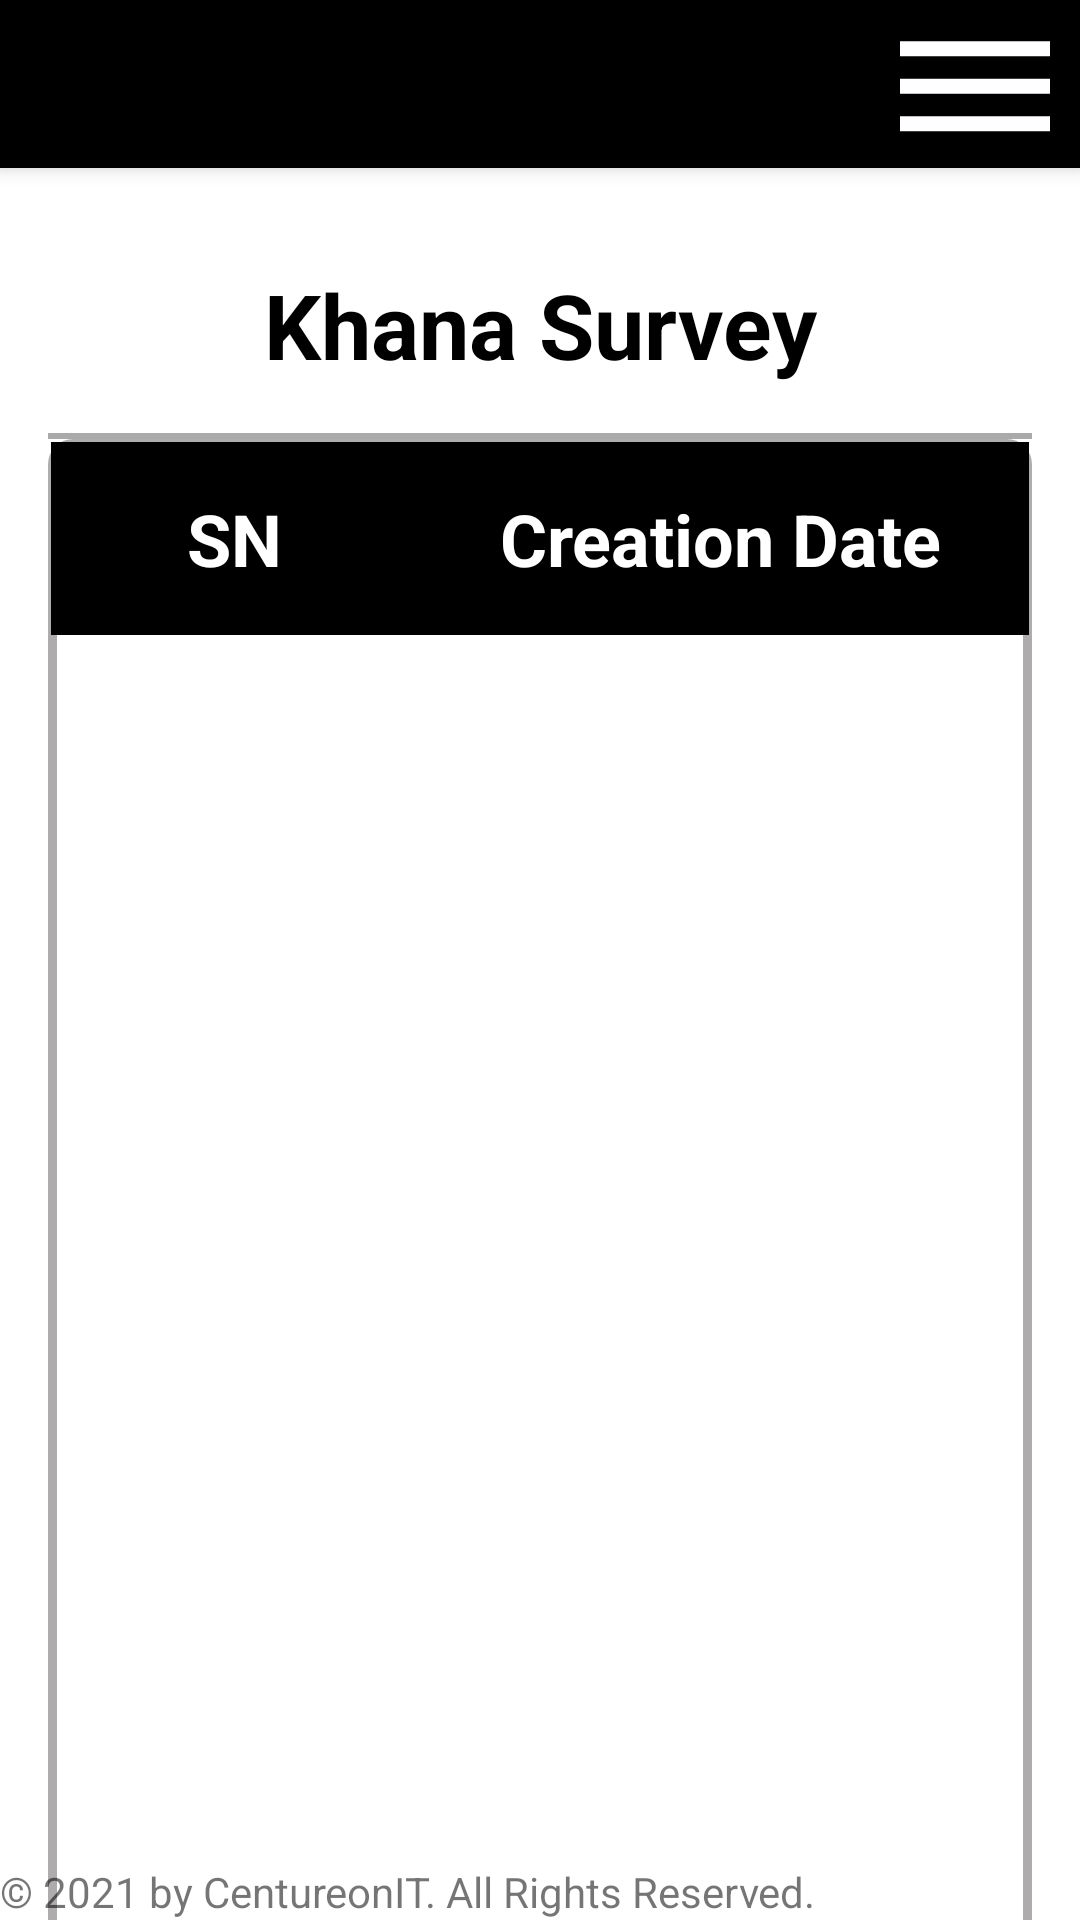

Locate icon controls on the screen. Image size 1080px x 1920px, boxes as Rect(x1, y1, x2, y2).
dehaze: Rect(900, 41, 1050, 132)
